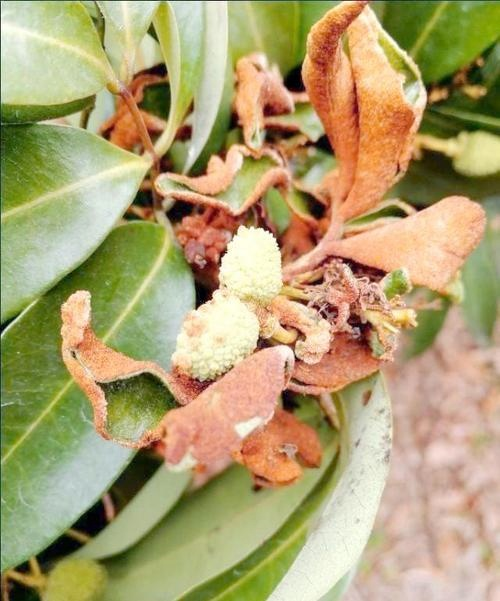Gall_Mite: (45, 284, 347, 477), (301, 15, 471, 331), (117, 46, 313, 307)
